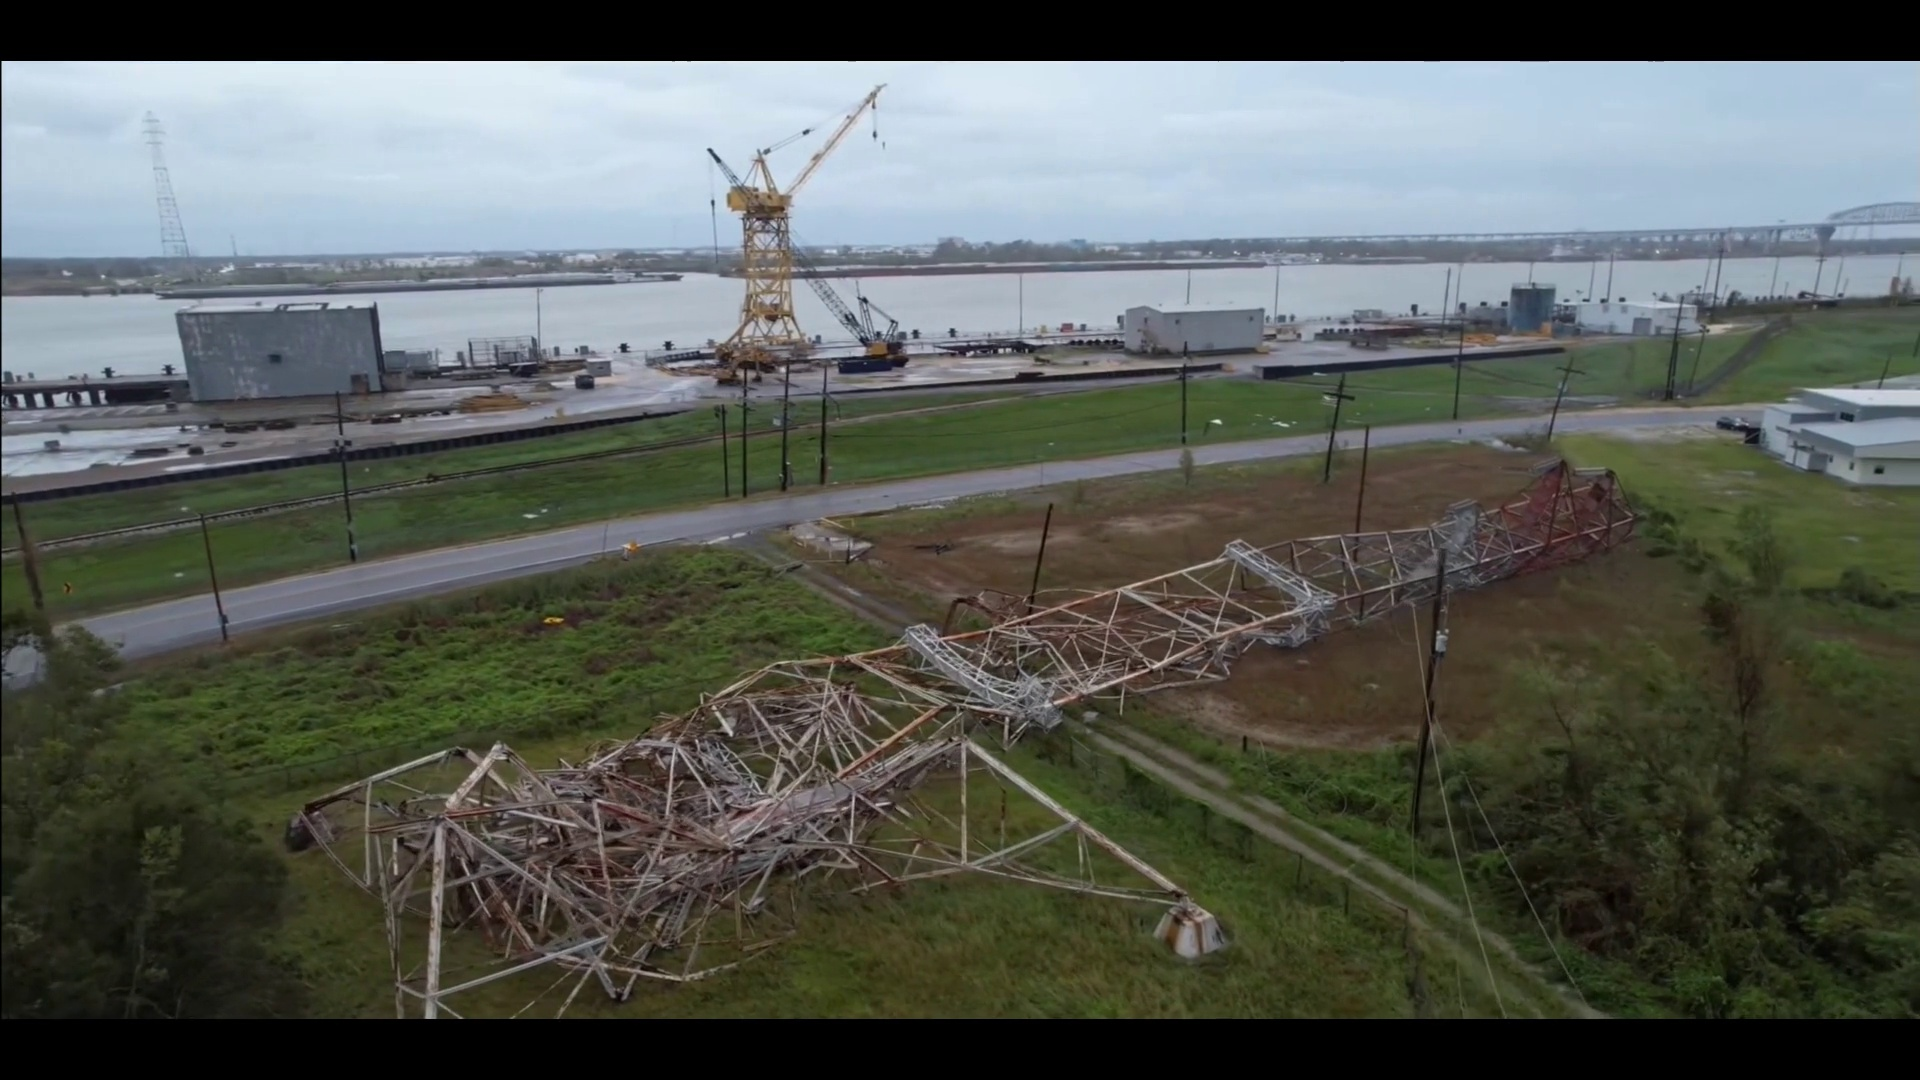tower_down: (272, 397, 1658, 1015)
